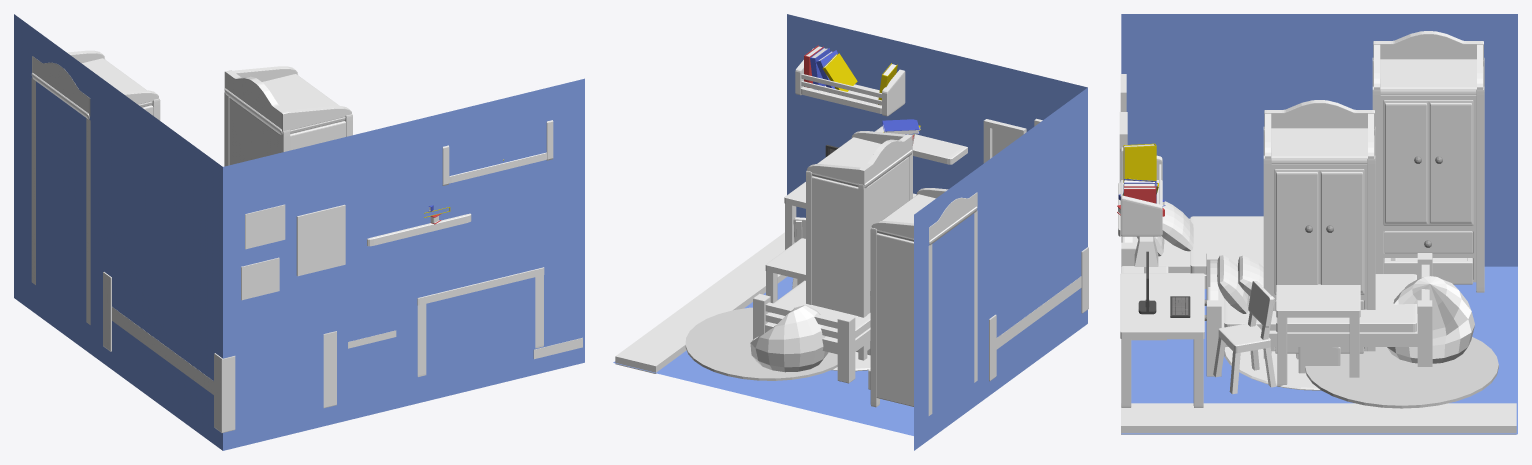
The model's file is bedroom.glb.
3 views of the same model, side by side, from view 1: azimuth 30°, elevation 25°; view 2: azimuth 150°, elevation 25°; view 3: azimuth 270°, elevation 25° (orthographic). The views are drawn at different scales.
Visible parts, largest first — view 1: Wall, Wardrobe, Wardrobe 1, Bed 1, Picture 1.001, Table 1, Picture 2.001, Wall bookshelf.001, Picture 3.001, Wall shelf.001; view 2: Wall, Wardrobe, Wardrobe 1, Floor, Carpet 1, Wood floor, Bed, Seat 1, Wood floor 1, Wall bookshelf.001, Bed 1, Book stack 2.001 (+5 smaller); view 3: Wall, Wardrobe 1, Wardrobe, Floor, Bed, Wood floor, Carpet 1, Wood floor 1, Table 1, Bed 1, Table, Seat 1 (+9 smaller).
Part boxes in pixels (x1,y1,x2,y2): Wall: (14, 14, 584, 450); Wardrobe: (224, 66, 352, 166); Wardrobe 1: (31, 50, 160, 324); Bed 1: (103, 272, 336, 432); Picture 1.001: (296, 204, 345, 276); Table 1: (417, 267, 544, 376); Picture 2.001: (245, 204, 285, 249); Wall bookshelf.001: (442, 120, 553, 185); Picture 3.001: (241, 257, 279, 300); Wall shelf.001: (367, 213, 471, 246); Wall: (787, 14, 1087, 450); Wardrobe: (806, 131, 912, 360); Wardrobe 1: (868, 188, 977, 415); Floor: (613, 276, 913, 435); Carpet 1: (685, 307, 837, 380); Wood floor: (618, 233, 784, 359); Bed: (753, 280, 870, 383); Seat 1: (750, 305, 828, 372); Wood floor 1: (615, 232, 787, 373); Wall bookshelf.001: (795, 48, 905, 116); Bed 1: (989, 247, 1088, 381); Book stack 2.001: (804, 45, 857, 91); Wall: (1121, 14, 1517, 266); Wardrobe 1: (1372, 31, 1484, 292); Wardrobe: (1263, 100, 1375, 358); Floor: (1121, 266, 1517, 434); Bed: (1206, 253, 1432, 376); Wood floor: (1125, 403, 1511, 425); Carpet 1: (1305, 337, 1498, 408); Wood floor 1: (1121, 403, 1516, 434); Table 1: (1120, 273, 1206, 407); Bed 1: (1121, 201, 1263, 288); Table: (1276, 284, 1360, 386); Seat 1: (1387, 276, 1474, 363).
Bounding box in the file's own units: 8.03 × 6.25 × 8.09.
